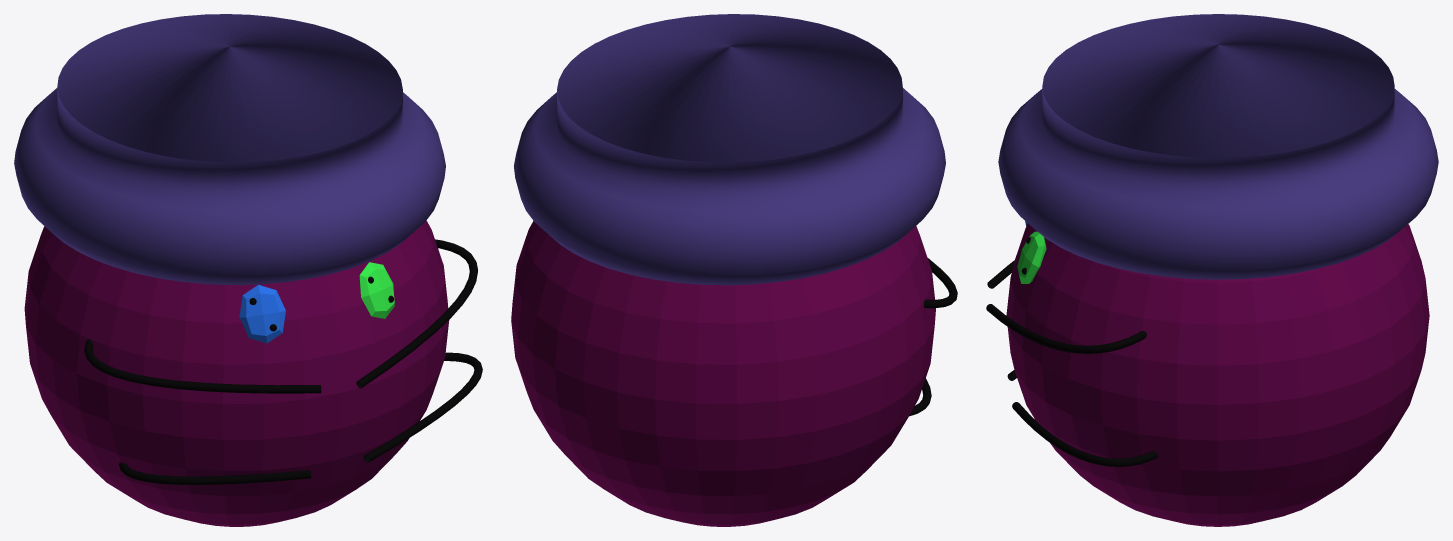
The model's file is bug3.fbx.
3 renders of one model, left to right at view 1: azimuth 30°, elevation 25°; view 2: azimuth 150°, elevation 25°; view 3: azimuth 270°, elevation 25°, orthographic.
Parts seen in each view (by area): view 1: Torus.001, Sphere, NurbsPath, NurbsPath.001, Cube, Cube.001; view 2: Torus.001, Sphere, NurbsPath; view 3: Torus.001, Sphere, NurbsPath, NurbsPath.001, Cube.001.
Part boxes in pixels (box(x1,y1,x2,y2)): Torus.001: box(14, 14, 445, 284); Sphere: box(24, 220, 449, 526); NurbsPath: box(84, 239, 477, 393); NurbsPath.001: box(119, 352, 482, 484); Cube: box(239, 284, 285, 343); Cube.001: box(359, 262, 394, 318); Torus.001: box(514, 14, 945, 285); Sphere: box(511, 221, 935, 526); NurbsPath: box(924, 258, 957, 308); Torus.001: box(998, 14, 1438, 279); Sphere: box(1006, 223, 1429, 526); NurbsPath: box(986, 260, 1146, 353); NurbsPath.001: box(1007, 370, 1158, 466); Cube.001: box(1017, 231, 1046, 283).
Bounding box in the file's own units: 208 × 240 × 214.
